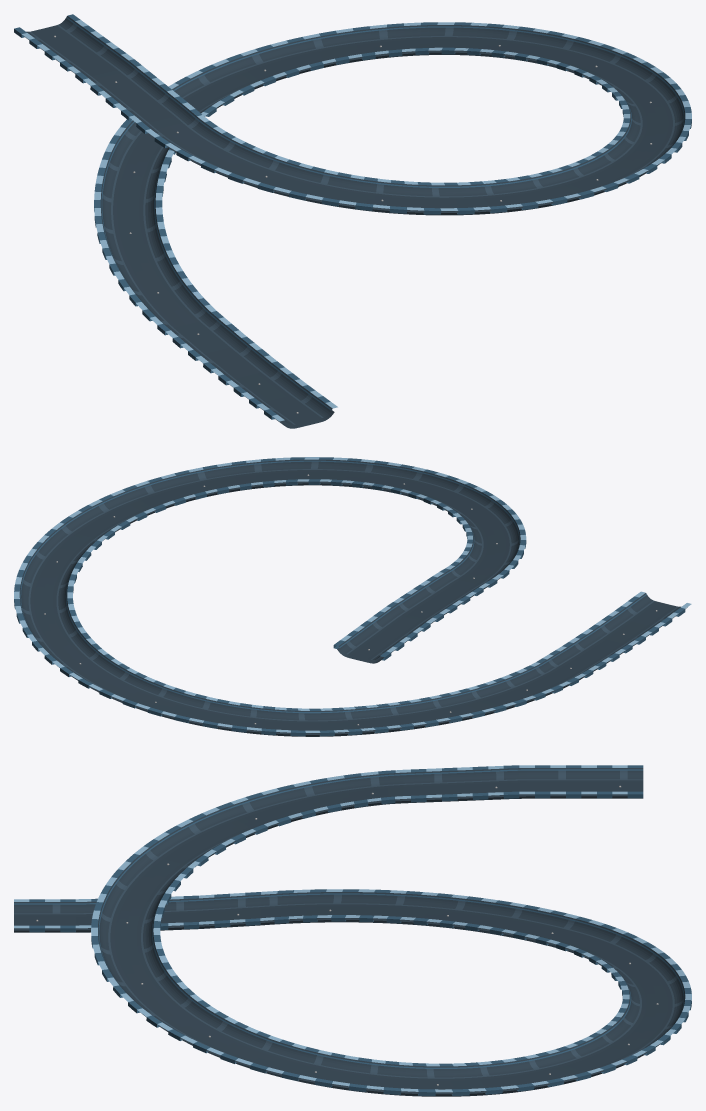
File: block_180_S_L_T3.fbx
The picture shows the model from 3 angles, top to bottom: view 1: azimuth 30°, elevation 25°; view 2: azimuth 150°, elevation 25°; view 3: azimuth 270°, elevation 25°; orthographic projection. The views are drawn at different scales.
Parts seen in each view (by area): view 1: block_180_S_L_T3; view 2: block_180_S_L_T3; view 3: block_180_S_L_T3.
Boxes of the visible parts, x1,y1,x2,y2 form: block_180_S_L_T3: [14, 14, 691, 428]; block_180_S_L_T3: [14, 457, 691, 736]; block_180_S_L_T3: [14, 765, 691, 1096].
Bounding box in the file's own units: 10690 × 3020 × 11084.
